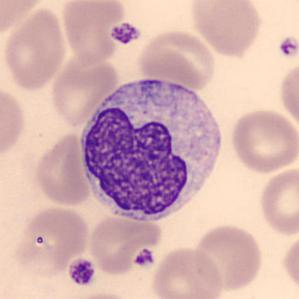Monocyte: (76, 67, 229, 230)
Platelets: (66, 257, 98, 287), (108, 21, 142, 46), (276, 34, 298, 60), (132, 248, 155, 268)
RBC: (1, 6, 70, 92), (12, 204, 90, 278), (49, 50, 121, 129), (191, 222, 265, 293), (136, 27, 218, 90), (32, 129, 93, 209), (228, 106, 298, 175), (86, 213, 162, 276), (188, 0, 264, 58), (59, 0, 124, 66), (150, 244, 225, 299), (257, 165, 298, 237), (0, 82, 28, 162), (0, 0, 47, 36), (277, 58, 298, 132), (280, 232, 299, 295), (58, 291, 140, 299)
